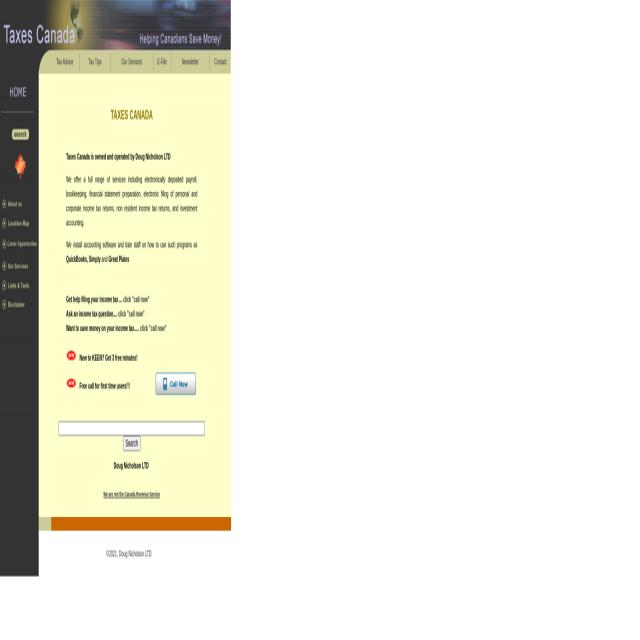button: (0, 0, 231, 49), (0, 74, 38, 112), (0, 50, 50, 74), (156, 373, 197, 395), (2, 238, 38, 252), (2, 218, 38, 228), (2, 280, 38, 290), (2, 300, 38, 309), (2, 200, 38, 208), (2, 262, 38, 270), (15, 153, 26, 179), (12, 129, 29, 140), (52, 517, 62, 531), (66, 350, 77, 361), (66, 378, 77, 387)
field: (59, 422, 205, 436), (123, 436, 141, 451)
